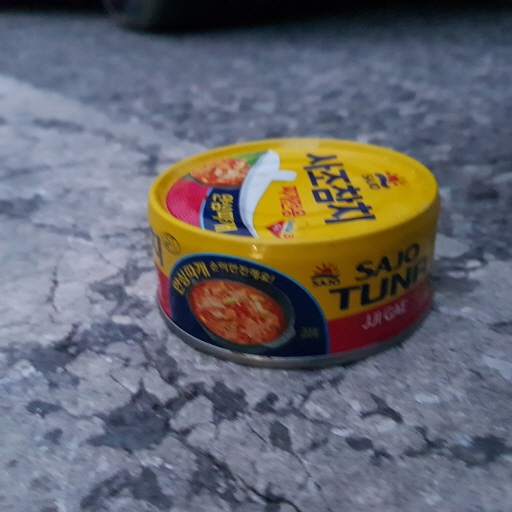Metal_1: (144, 134, 441, 364)
